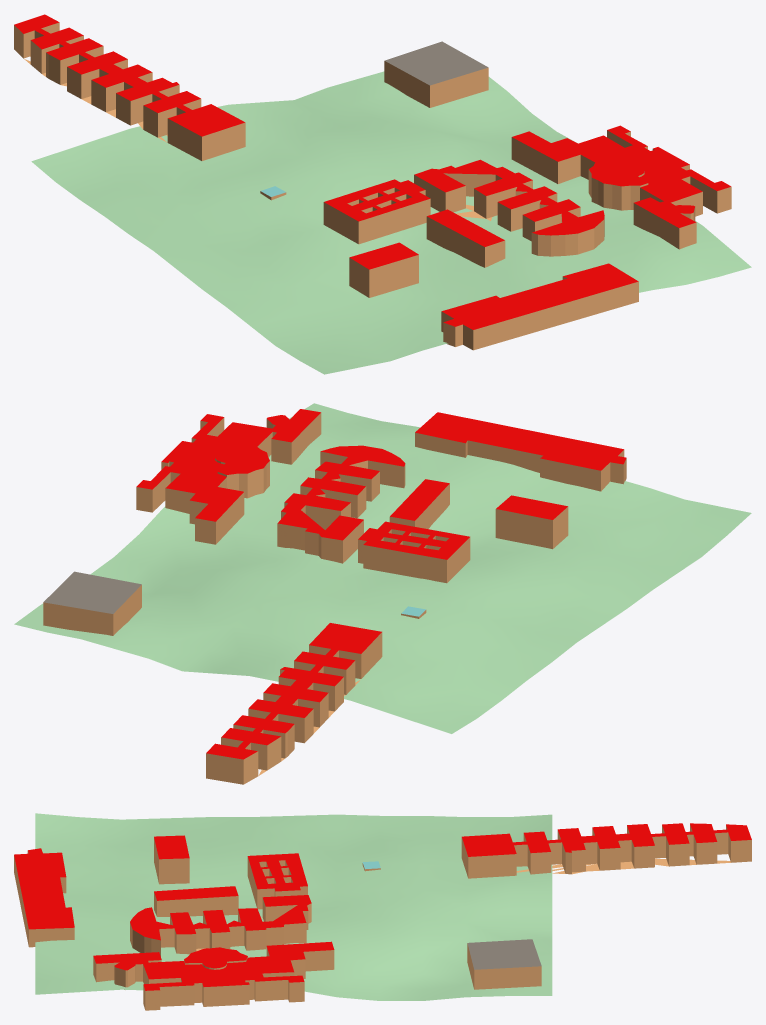
The model's file is albacete.dae.
3 views of the same model, one above another, from view 1: azimuth 30°, elevation 25°; view 2: azimuth 150°, elevation 25°; view 3: azimuth 270°, elevation 25° (orthographic). The views are drawn at different scales.
Parts seen in each view (by area): view 1: Terrain, map_4.osm_buildings; view 2: Terrain, map_4.osm_buildings; view 3: Terrain, map_4.osm_buildings.
Part boxes in pixels (bbox=[...]): Terrain: bbox=[31, 71, 751, 374]; map_4.osm_buildings: bbox=[14, 14, 731, 350]; Terrain: bbox=[14, 403, 751, 733]; map_4.osm_buildings: bbox=[43, 409, 626, 784]; Terrain: bbox=[35, 813, 552, 1000]; map_4.osm_buildings: bbox=[14, 823, 751, 1010].
Bounding box in the file's own units: 343 × 530 × 27.2.
